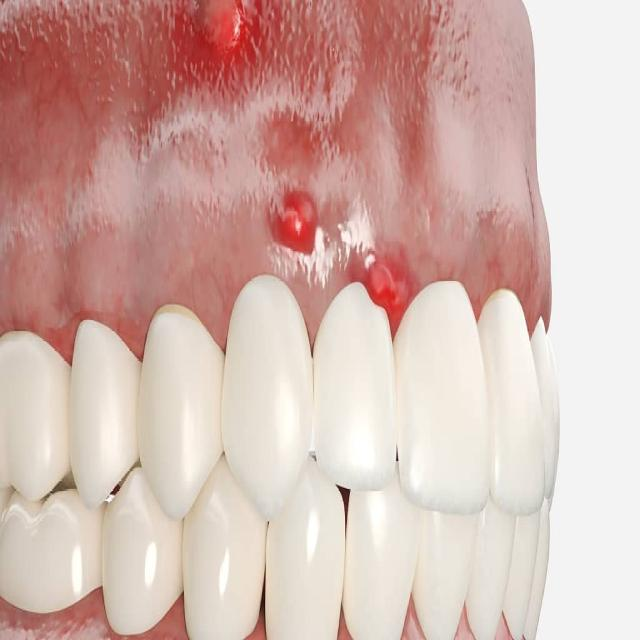abscess: (350, 250, 421, 329), (262, 182, 332, 259), (192, 0, 260, 60)
